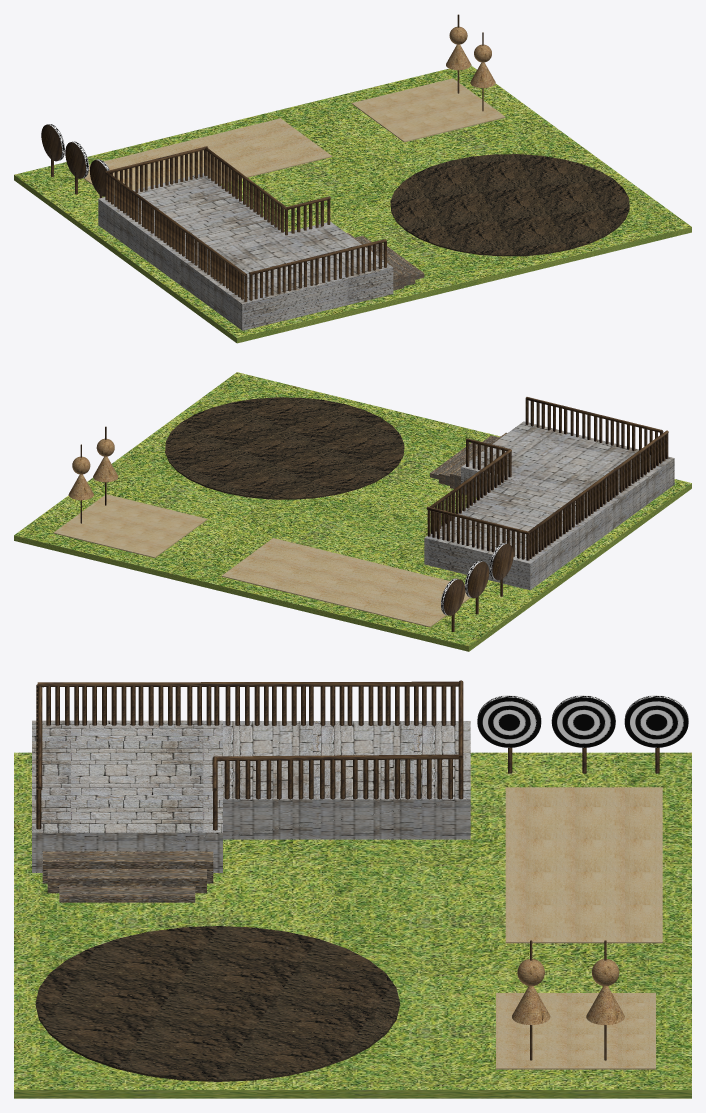
Rendered from Hittites_Academy.fbx.
3 views of the same model, one above another, from view 1: azimuth 30°, elevation 25°; view 2: azimuth 150°, elevation 25°; view 3: azimuth 270°, elevation 25° (orthographic). The views are drawn at different scales.
Visible parts, largest first — view 1: Cube, Cube.001, Cylinder.134, Cube.002, Cube.004, Cube.003, Cylinder.001, Cylinder.139, Cylinder.129, Cylinder.003; view 2: Cube, Cylinder.134, Cube.001, Cube.002, Cube.004, Cube.003, Cylinder.003, Cylinder.139, Cylinder.001, Cylinder.129, Cylinder.131; view 3: Cube, Cube.001, Cylinder.134, Cube.002, Cube.004, Cube.003, Cylinder.003, Cylinder.001, Cylinder.139, Cylinder.129, Cylinder.128, Cone.000 (+1 smaller).
Part boxes in pixels (bbox=[...]): Cube: bbox=[14, 65, 691, 343]; Cube.001: bbox=[98, 173, 393, 330]; Cylinder.134: bbox=[390, 154, 629, 256]; Cube.002: bbox=[83, 118, 332, 194]; Cube.004: bbox=[351, 78, 505, 142]; Cube.003: bbox=[346, 232, 424, 290]; Cylinder.001: bbox=[65, 141, 88, 178]; Cylinder.139: bbox=[41, 124, 64, 161]; Cylinder.129: bbox=[105, 172, 247, 275]; Cylinder.003: bbox=[89, 159, 109, 196]; Cube: bbox=[14, 372, 691, 651]; Cylinder.134: bbox=[165, 397, 404, 499]; Cube.001: bbox=[424, 421, 674, 589]; Cube.002: bbox=[221, 538, 470, 627]; Cube.004: bbox=[53, 494, 207, 557]; Cube.003: bbox=[430, 432, 507, 488]; Cylinder.003: bbox=[489, 543, 513, 580]; Cylinder.139: bbox=[441, 578, 465, 615]; Cylinder.001: bbox=[465, 561, 489, 598]; Cylinder.129: bbox=[528, 430, 668, 533]; Cylinder.131: bbox=[525, 397, 662, 432]; Cube: bbox=[14, 752, 691, 1098]; Cube.001: bbox=[32, 720, 470, 872]; Cylinder.134: bbox=[35, 926, 399, 1081]; Cube.002: bbox=[505, 787, 662, 943]; Cube.004: bbox=[496, 993, 655, 1069]; Cube.003: bbox=[42, 851, 213, 902]; Cylinder.003: bbox=[477, 695, 541, 747]; Cylinder.001: bbox=[551, 695, 615, 747]; Cylinder.139: bbox=[624, 695, 688, 747]; Cylinder.129: bbox=[37, 681, 459, 687]; Cylinder.128: bbox=[213, 754, 463, 761]; Cone.000: bbox=[512, 986, 550, 1024].
Size of the model in its own units: 1297 by 237 by 1101.
Materials: 9 (9 with a texture image).
